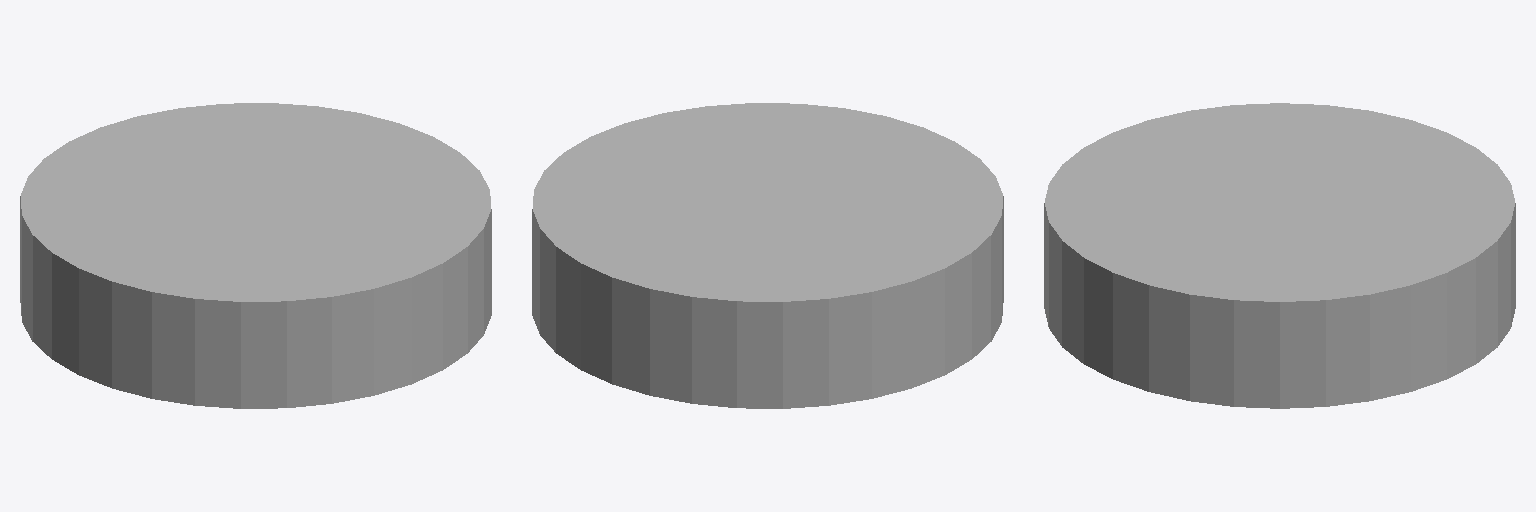
robot.urdf — hello_ros_robot:
<?xml version="1.0"?>
<robot name="hello_ros_robot">
  <link name="world"/>
  <link name="base_link">
    <visual>
      <geometry>
        <cylinder length="0.05" radius="0.1"/>
      </geometry>
      <material name="silver">
        <color rgba="0.75 0.75 0.75 1"/>
      </material>
      <origin rpy="0 0 0" xyz="0 0 0.025"/>
    </visual>
  </link>
  <joint name="fixed" type="fixed">
    <parent link="world"/>
    <child link="base_link"/>
  </joint>
</robot>

--- Facts derived from the render (not from the file) ---
The picture shows the robot from 3 angles, left to right: view 1: azimuth 30°, elevation 25°; view 2: azimuth 150°, elevation 25°; view 3: azimuth 270°, elevation 25°; orthographic projection.
Model hello_ros_robot with 2 links and 1 joints (1 fixed), rooted at world, posed every joint at zero.
Links seen in each view (by area): view 1: base_link; view 2: base_link; view 3: base_link.
Boxes of the visible links, bbox=[...] form: base_link: bbox=[20, 103, 491, 408]; base_link: bbox=[532, 103, 1003, 408]; base_link: bbox=[1044, 103, 1515, 408].
Bounding box of the posed robot: 0.2 × 0.2 × 0.05 m (x, y, z).
Geometry: primitives only (box / cylinder / sphere), no mesh files.